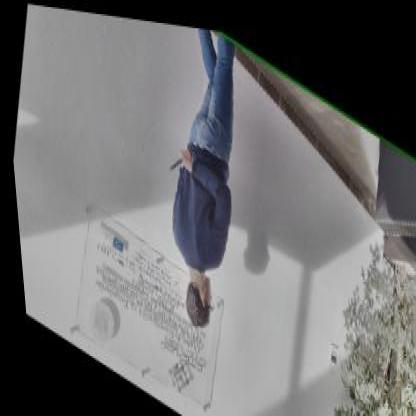knife: (161, 128, 193, 180)
